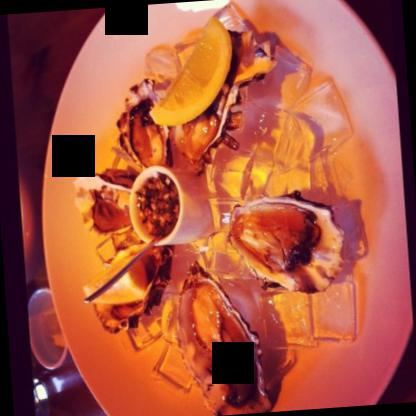oyster: (174, 260, 282, 415), (224, 188, 349, 298)
